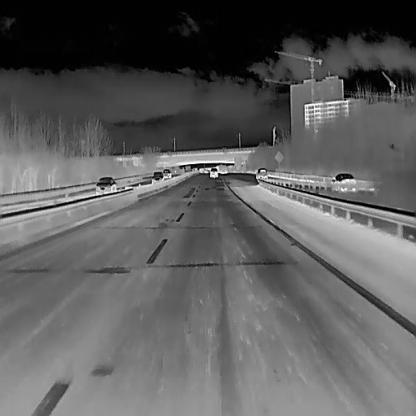car: (330, 172, 355, 188), (95, 177, 116, 193), (151, 171, 164, 183), (255, 167, 267, 179), (209, 167, 218, 177), (162, 168, 171, 177)
